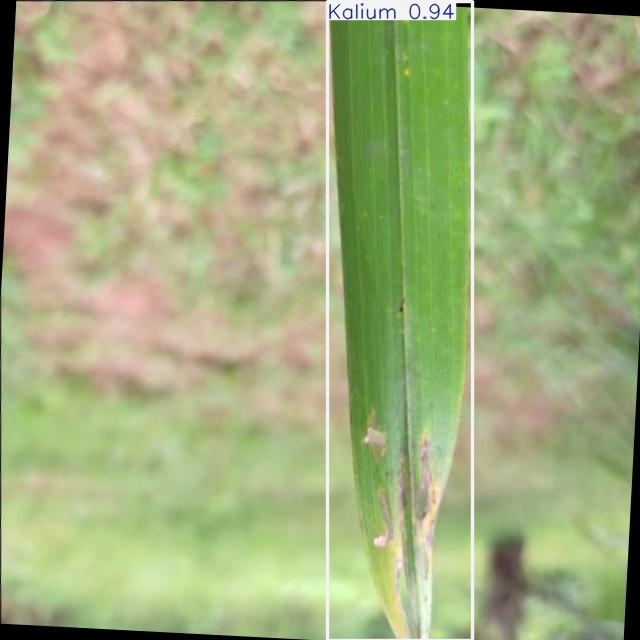Kalium: (328, 2, 472, 640)
